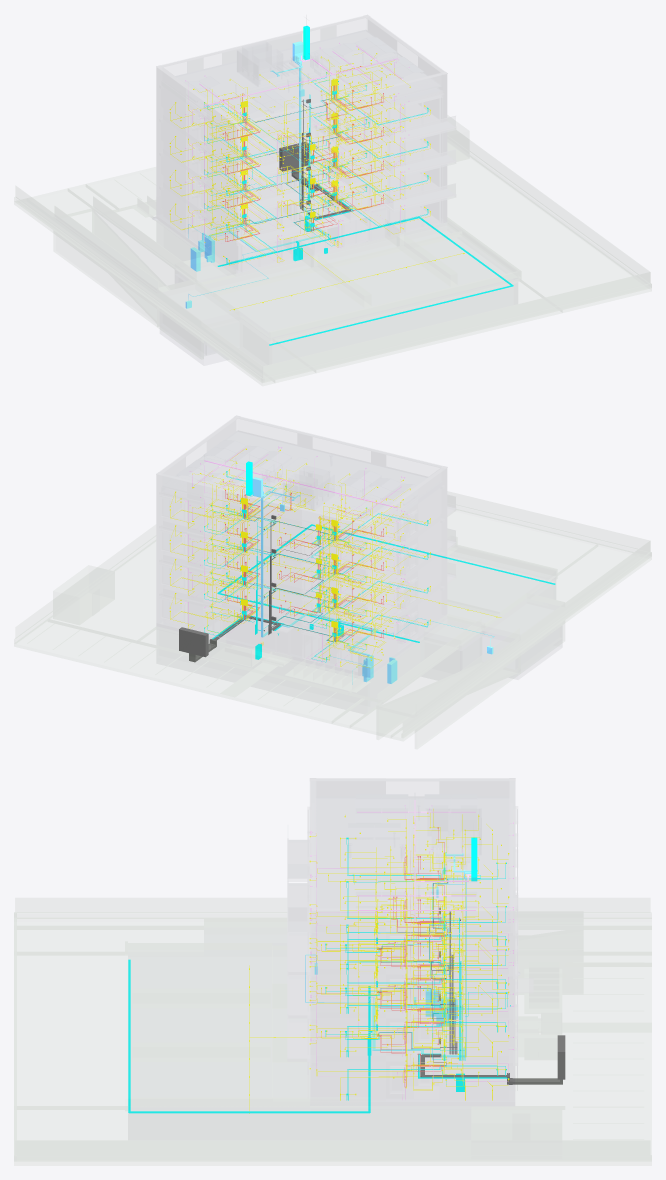
The model's file is impianti_elettrico.glb.
3 views of the same model, one above another, from view 1: azimuth 30°, elevation 25°; view 2: azimuth 150°, elevation 25°; view 3: azimuth 270°, elevation 25° (orthographic). The views are drawn at different scales.
Visible parts, largest first — view 1: edificio/02_Involucro, edificio/00_Lotto, edificio/08_Copertura e impianti, elettrico/ricarica/interrato/comuni/ELS-819, elettrico/montanti/esterno/comuni/ELN-827; view 2: edificio/02_Involucro, edificio/00_Lotto, edificio/08_Copertura e impianti, elettrico/ricarica/interrato/comuni/ELS-819, elettrico/montanti/esterno/comuni/ELN-827; view 3: edificio/00_Lotto, edificio/02_Involucro, edificio/08_Copertura e impianti, elettrico/ricarica/interrato/comuni/ELS-819.
Boxes of the visible parts, x1=… form: edificio/02_Involucro: x1=157, y1=15, x2=455, y2=271; edificio/00_Lotto: x1=15, y1=130, x2=651, y2=382; edificio/08_Copertura e impianti: x1=153, y1=31, x2=426, y2=219; elettrico/ricarica/interrato/comuni/ELS-819: x1=217, y1=217, x2=513, y2=345; elettrico/montanti/esterno/comuni/ELN-827: x1=279, y1=141, x2=308, y2=171; edificio/02_Involucro: x1=156, y1=416, x2=455, y2=669; edificio/00_Lotto: x1=15, y1=505, x2=651, y2=737; edificio/08_Copertura e impianti: x1=177, y1=432, x2=425, y2=678; elettrico/ricarica/interrato/comuni/ELS-819: x1=217, y1=524, x2=555, y2=642; elettrico/montanti/esterno/comuni/ELN-827: x1=179, y1=627, x2=208, y2=657; edificio/00_Lotto: x1=14, y1=911, x2=651, y2=1161; edificio/02_Involucro: x1=288, y1=778, x2=517, y2=1098; edificio/08_Copertura e impianti: x1=317, y1=795, x2=519, y2=974; elettrico/ricarica/interrato/comuni/ELS-819: x1=128, y1=959, x2=370, y2=1113.
Bounding box in the file's own units: 38 × 21.45 × 42.
